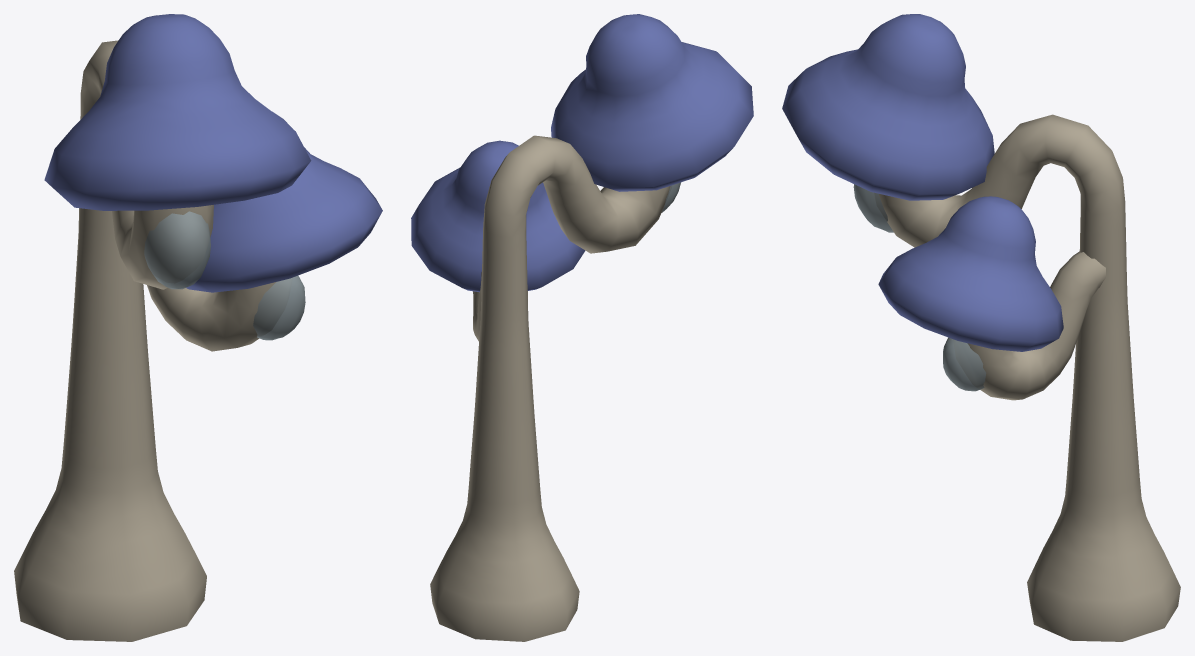
File: SM_GlowShroomDecorative.fbx
The picture shows the model from 3 angles, left to right: view 1: azimuth 30°, elevation 25°; view 2: azimuth 150°, elevation 25°; view 3: azimuth 270°, elevation 25°; orthographic projection. The views are drawn at different scales.
Parts seen in each view (by area): view 1: double_lamp_shroom_low; view 2: double_lamp_shroom_low; view 3: double_lamp_shroom_low.
Part boxes in pixels (left/top/right/bottom): double_lamp_shroom_low: left=14, top=14, right=382, bottom=641; double_lamp_shroom_low: left=411, top=14, right=753, bottom=641; double_lamp_shroom_low: left=782, top=14, right=1180, bottom=641.
Bounding box in the file's own units: 2.84 × 5.2 × 3.3.
